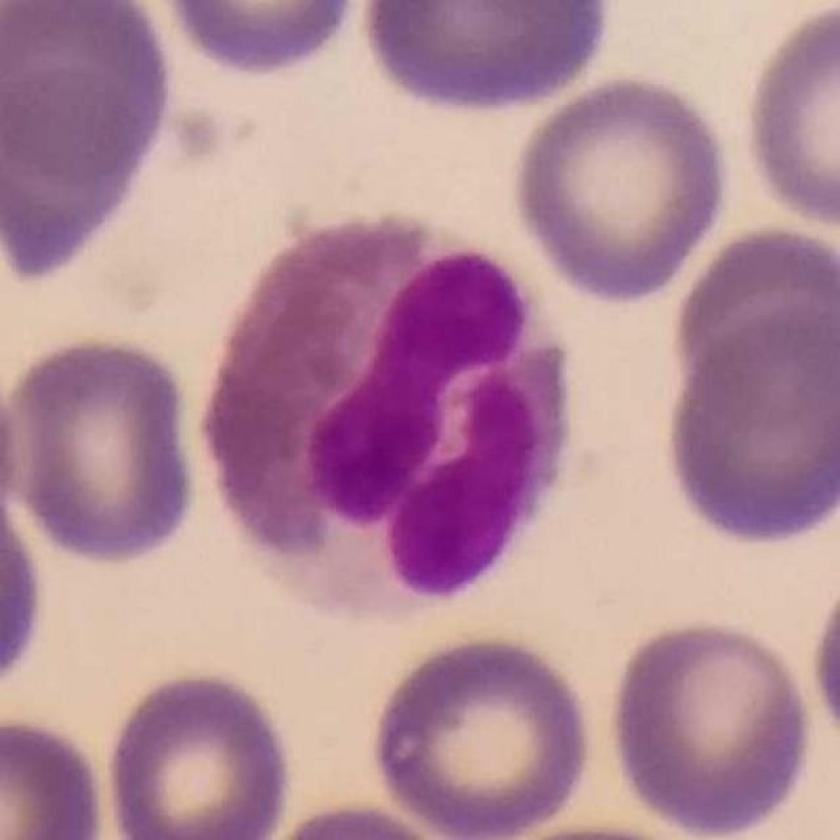eosinophil: (200, 214, 580, 634)
